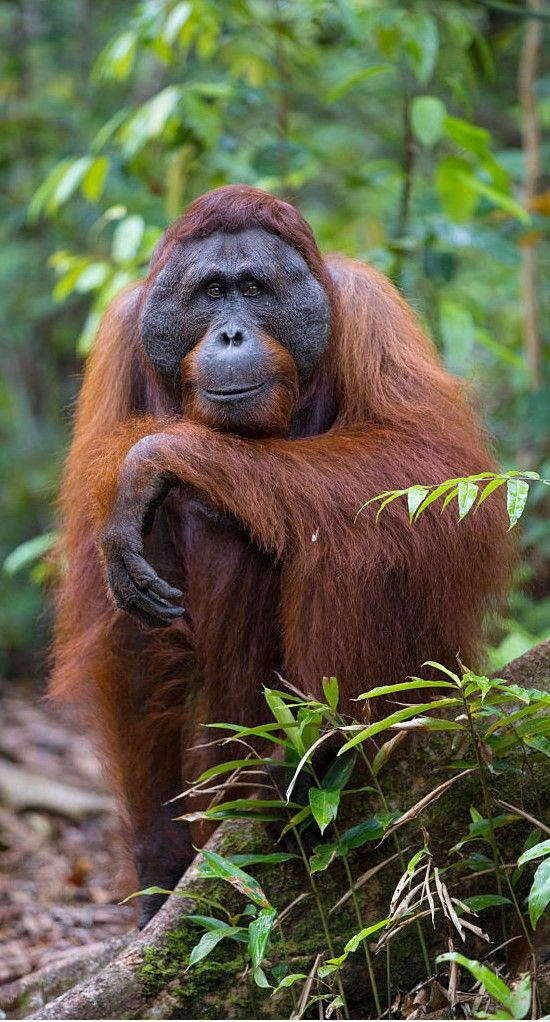Orangutan: (66, 176, 496, 736)
